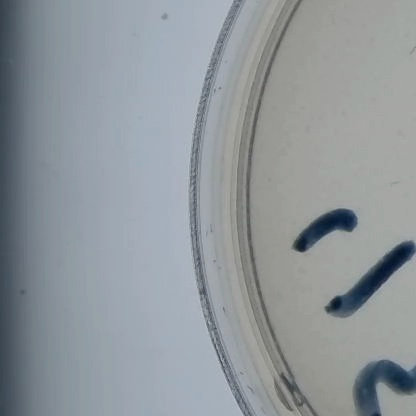worm: (383, 176, 407, 189), (403, 35, 416, 59)
